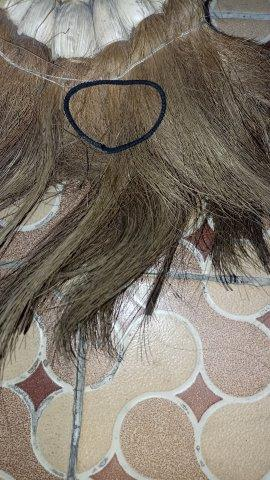karet: (63, 80, 167, 154)
